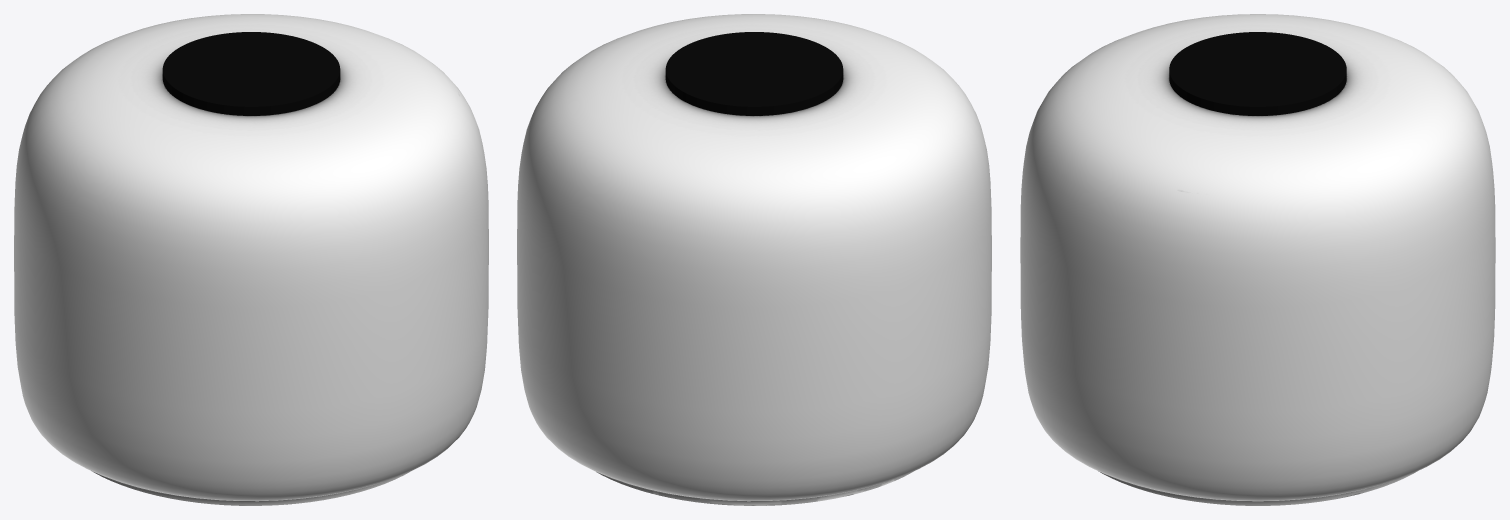
File: Pandent2.glb
3 renders of one model, left to right at view 1: azimuth 30°, elevation 25°; view 2: azimuth 150°, elevation 25°; view 3: azimuth 270°, elevation 25°, orthographic.
Parts seen in each view (by area): view 1: Pandnet; view 2: Pandnet; view 3: Pandnet.
Boxes of the visible parts, box(x1,y1,x2,y2) form: Pandnet: box(14, 14, 488, 505); Pandnet: box(517, 14, 991, 505); Pandnet: box(1020, 14, 1495, 505).
Bounding box in the file's own units: 0.1138 × 0.1026 × 0.1138.
Materials: 3 (1 with a texture image).
